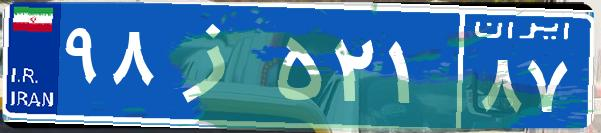1: (385, 28, 445, 110)
2: (330, 28, 385, 110)
5: (273, 28, 330, 110)
7: (525, 38, 570, 115)
8: (475, 38, 525, 113), (110, 28, 158, 105)
9: (57, 26, 110, 107)
ز: (158, 15, 273, 115)
